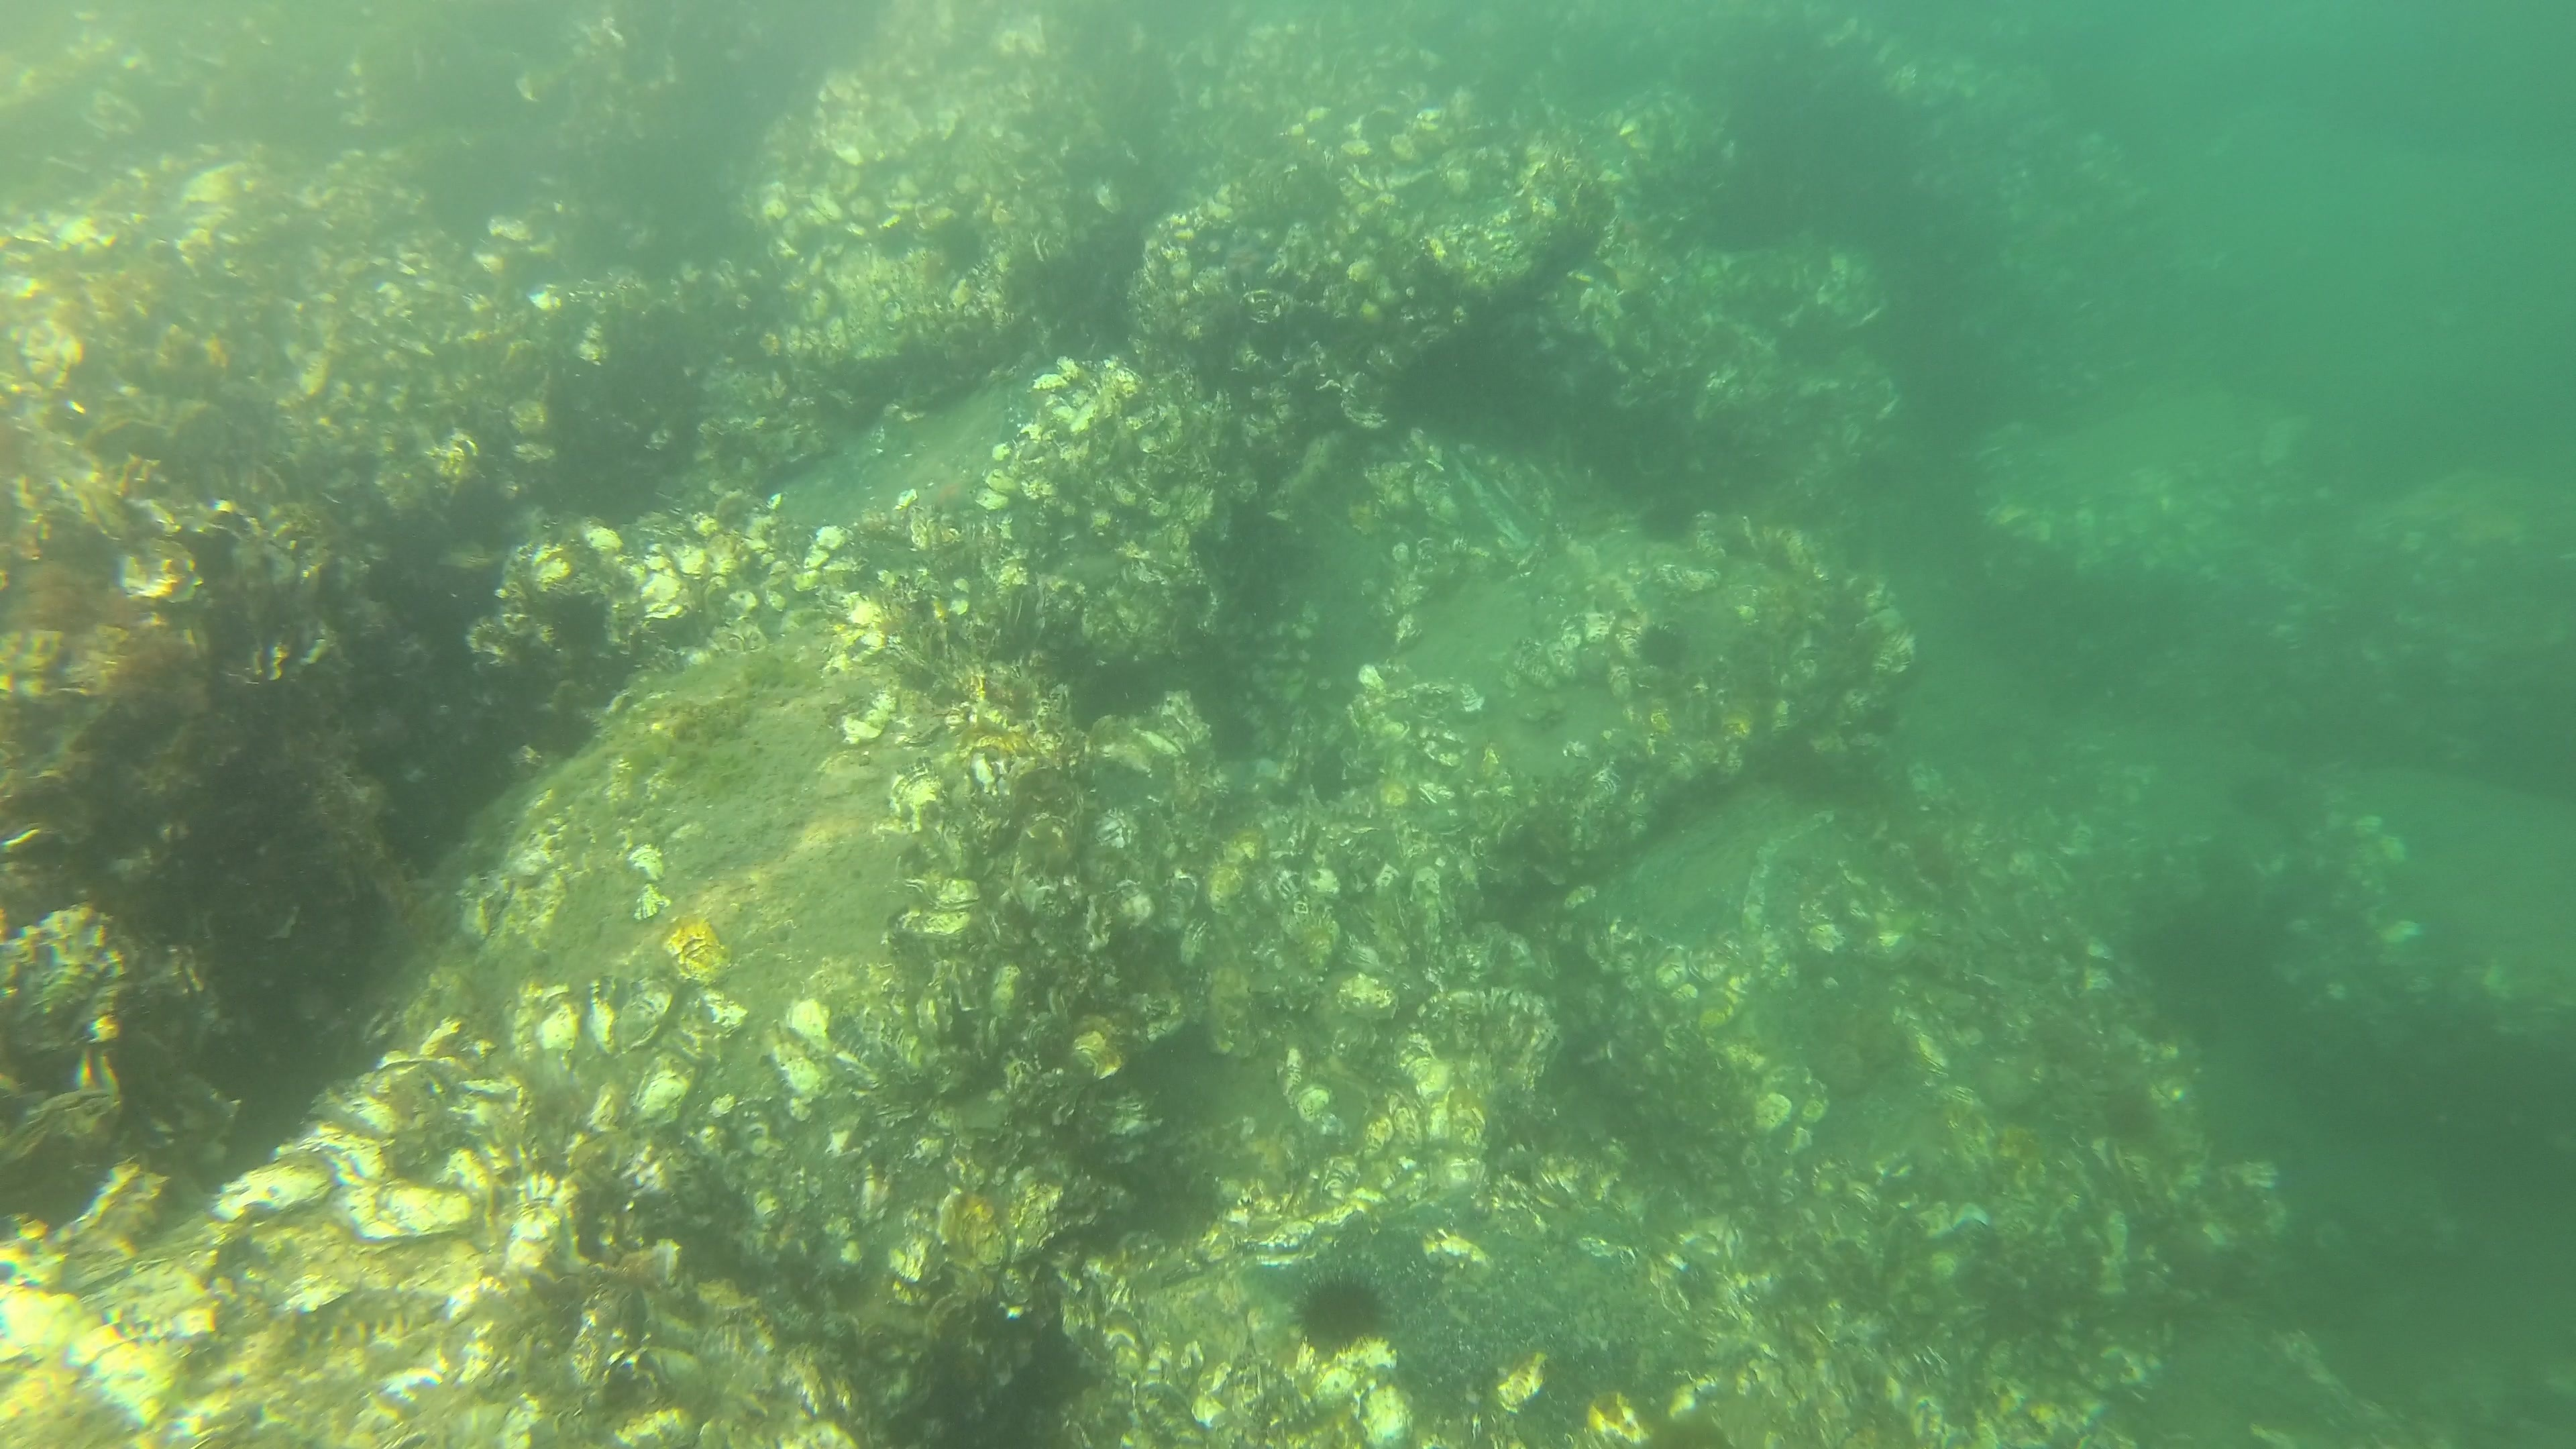echinus: (1288, 1276, 1389, 1355), (547, 589, 614, 655), (936, 212, 989, 271), (1638, 492, 1697, 543), (547, 711, 591, 768), (1640, 625, 1688, 672), (878, 218, 916, 260)
